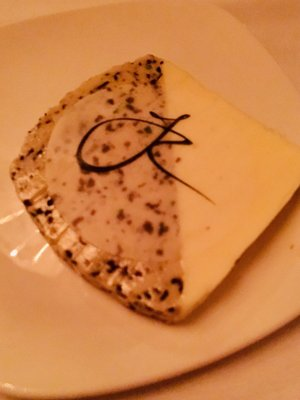sandwich: (7, 48, 300, 325)
